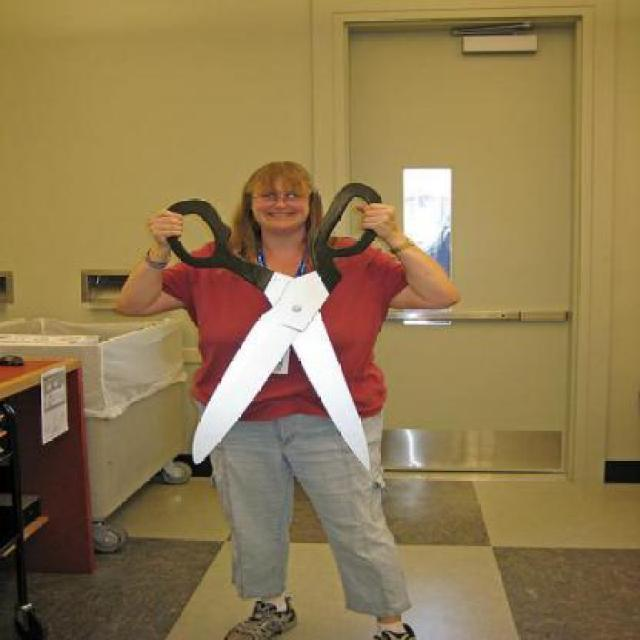Person: (100, 155, 463, 627)
